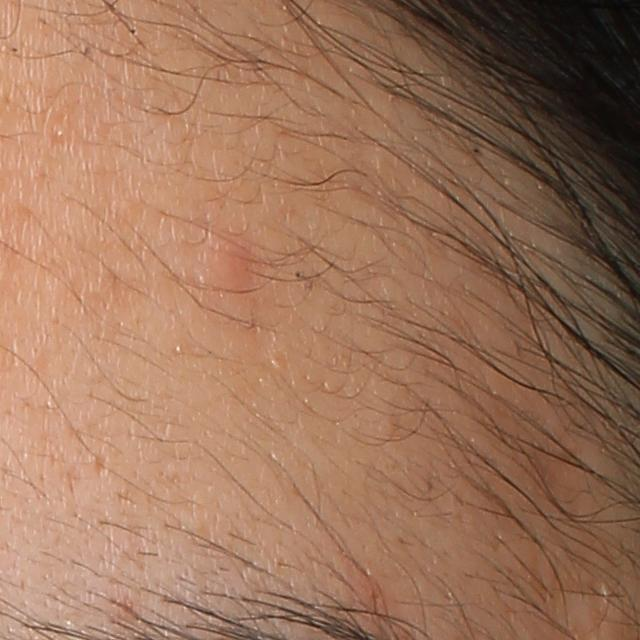papule: (209, 240, 252, 292)
